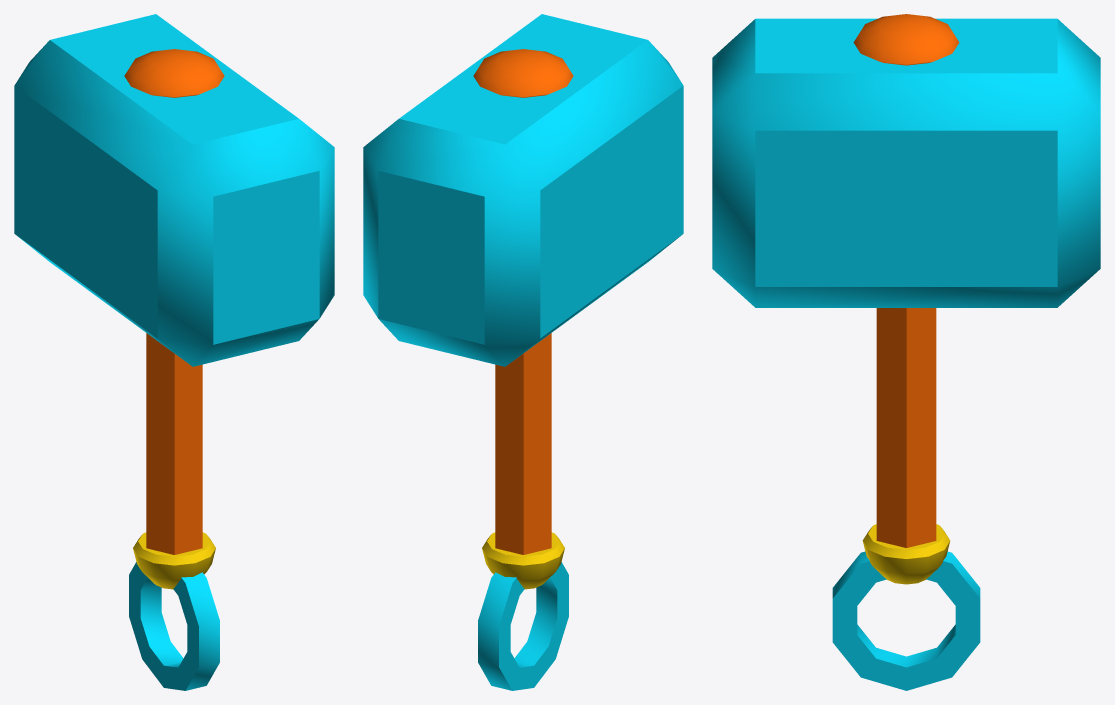
The model's file is hammer.fbx.
The picture shows the model from 3 angles, left to right: view 1: azimuth 30°, elevation 25°; view 2: azimuth 150°, elevation 25°; view 3: azimuth 270°, elevation 25°; orthographic projection. The views are drawn at different scales.
Visible parts, largest first — view 1: hammer; view 2: hammer; view 3: hammer.
Part boxes in pixels (bbox=[...]): hammer: bbox=[14, 14, 334, 690]; hammer: bbox=[363, 14, 683, 690]; hammer: bbox=[712, 14, 1100, 690].
Size of the model in its own units: 50 by 170 by 90.
